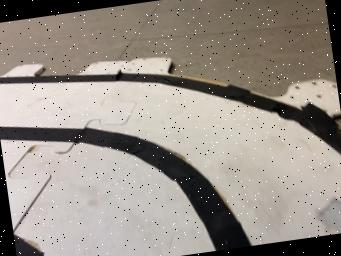street: (0, 76, 341, 256), (0, 76, 341, 256), (0, 76, 341, 256)
